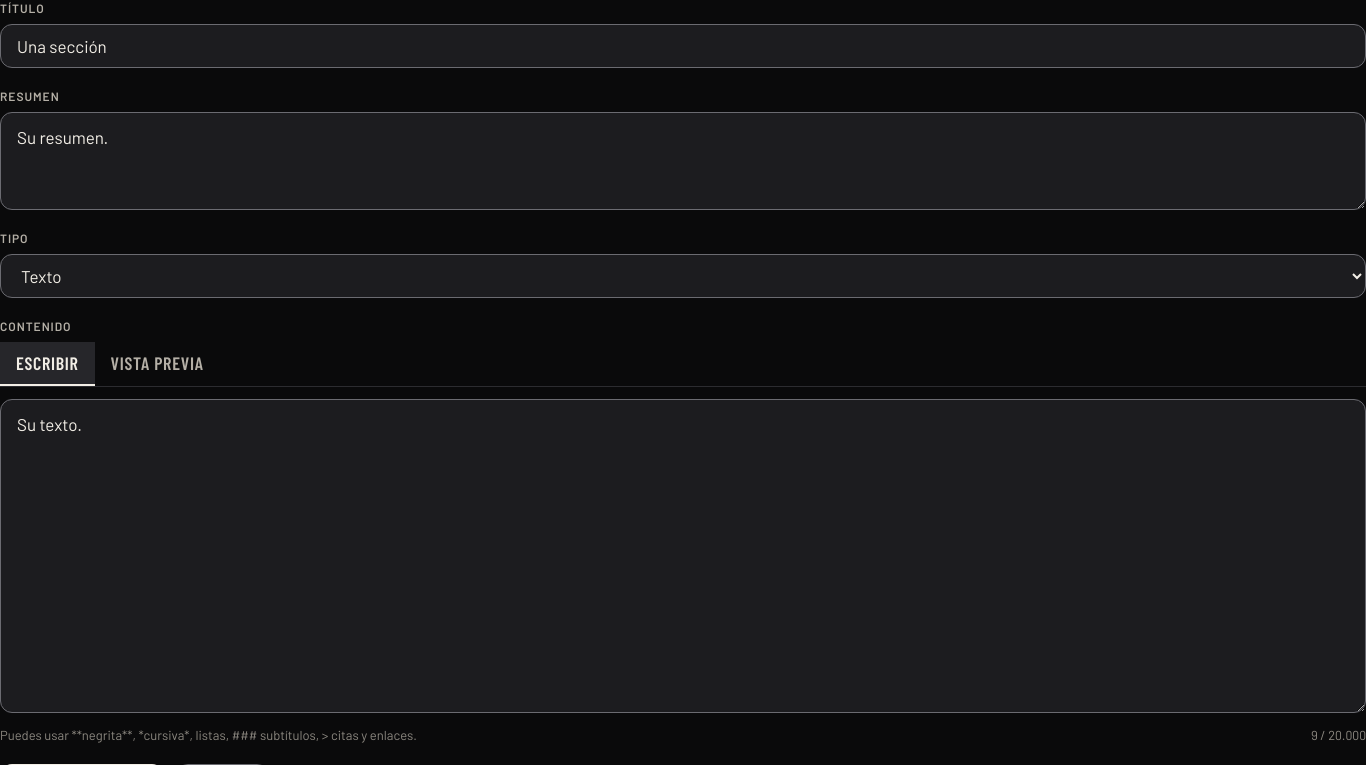
Test: SectionEditor › el aviso sigue al tipo elegido en el formulario, antes de guardar
Select "Standards" in the dropdown labelled "Tipo" at (683, 276), box 0,254 -> 1365,298
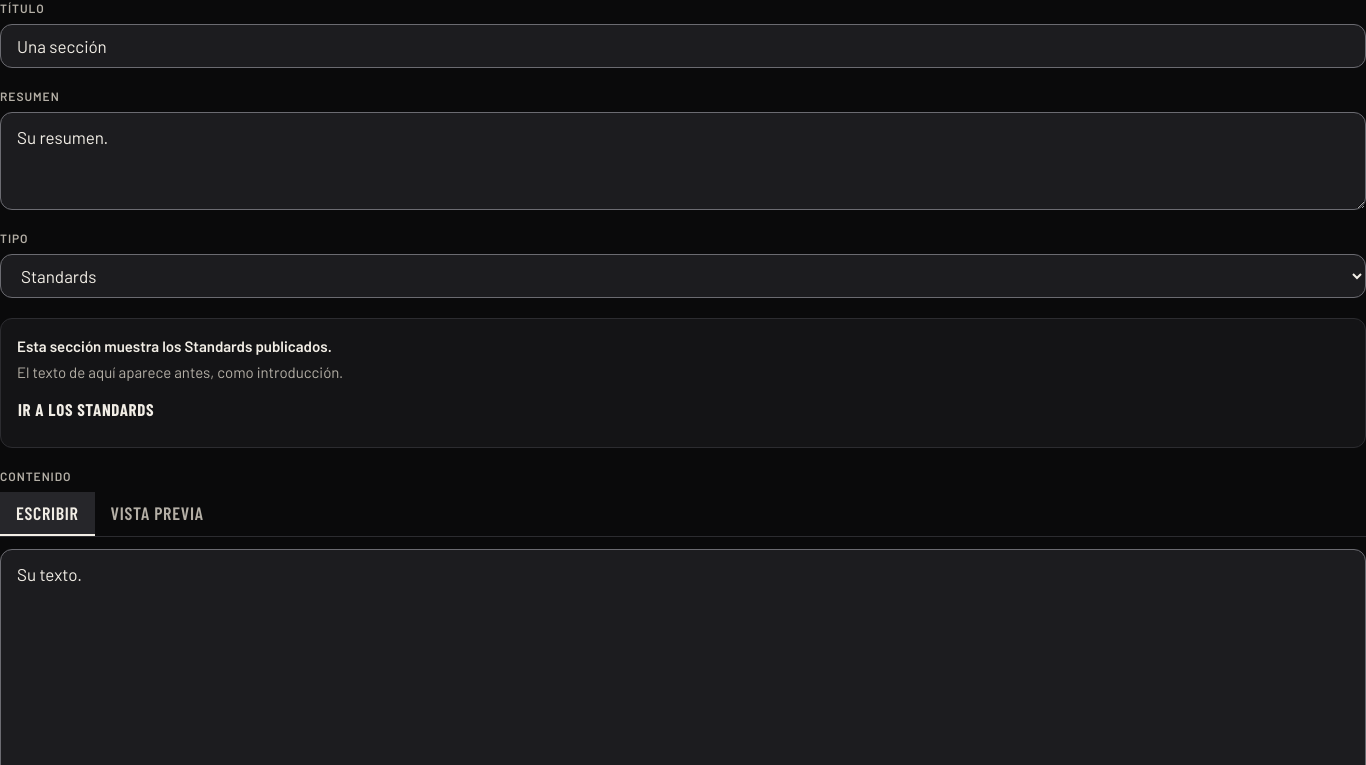
Expected: the text "Esta sección muestra los Standards publicados." is shown, 17,337 -> 332,355
Select "Texto" in the dropdown labelled "Tipo" at (683, 276), box 0,254 -> 1365,298
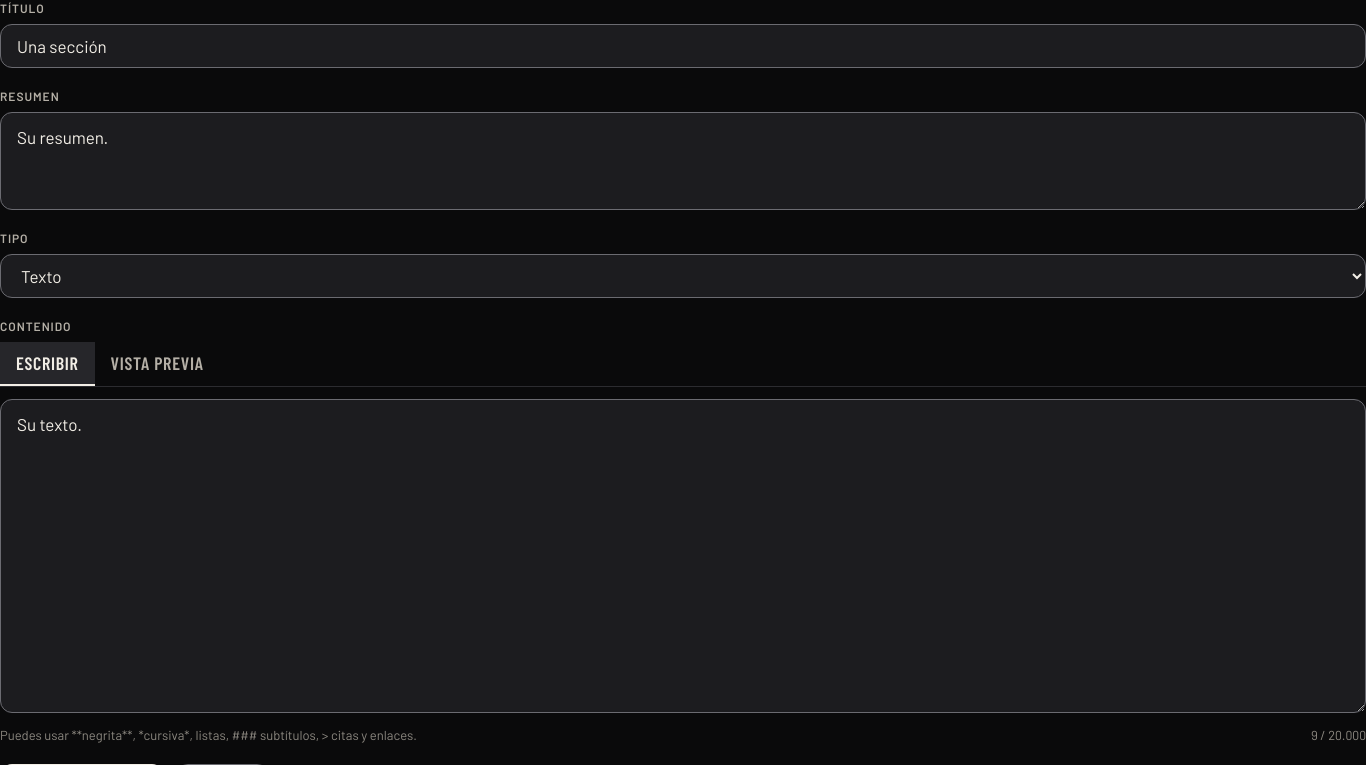
Expected: the text "muestra los" is gone
